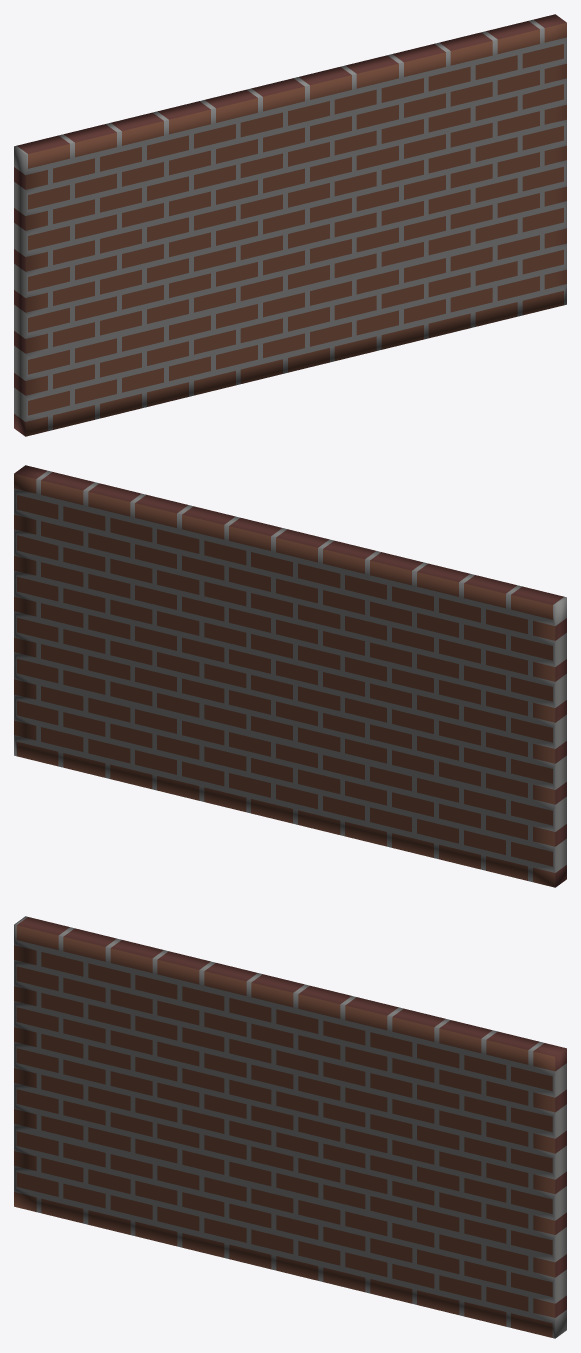
The picture shows the model from 3 angles, top to bottom: view 1: azimuth 30°, elevation 25°; view 2: azimuth 150°, elevation 25°; view 3: azimuth 330°, elevation 25°; orthographic projection.
Parts seen in each view (by area): view 1: RedBrickWall; view 2: RedBrickWall; view 3: RedBrickWall.
Part boxes in pixels (x1,y1,x2,y2): RedBrickWall: [14, 14, 566, 436]; RedBrickWall: [14, 465, 566, 887]; RedBrickWall: [14, 916, 566, 1338].
Bounding box in the file's own units: 0.5 × 0.2488 × 0.0184.
